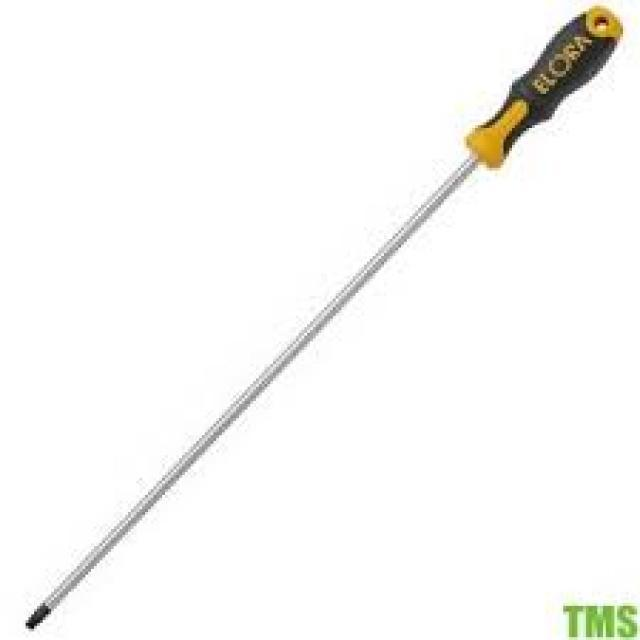screwdriver: (18, 2, 624, 638)
